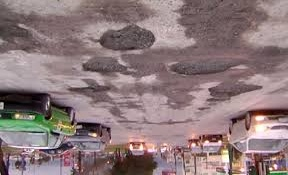pothole: (0, 18, 44, 57), (92, 26, 160, 51), (167, 59, 249, 78), (77, 57, 130, 76), (206, 83, 262, 98), (66, 79, 112, 94), (203, 96, 230, 103), (198, 106, 211, 111)
